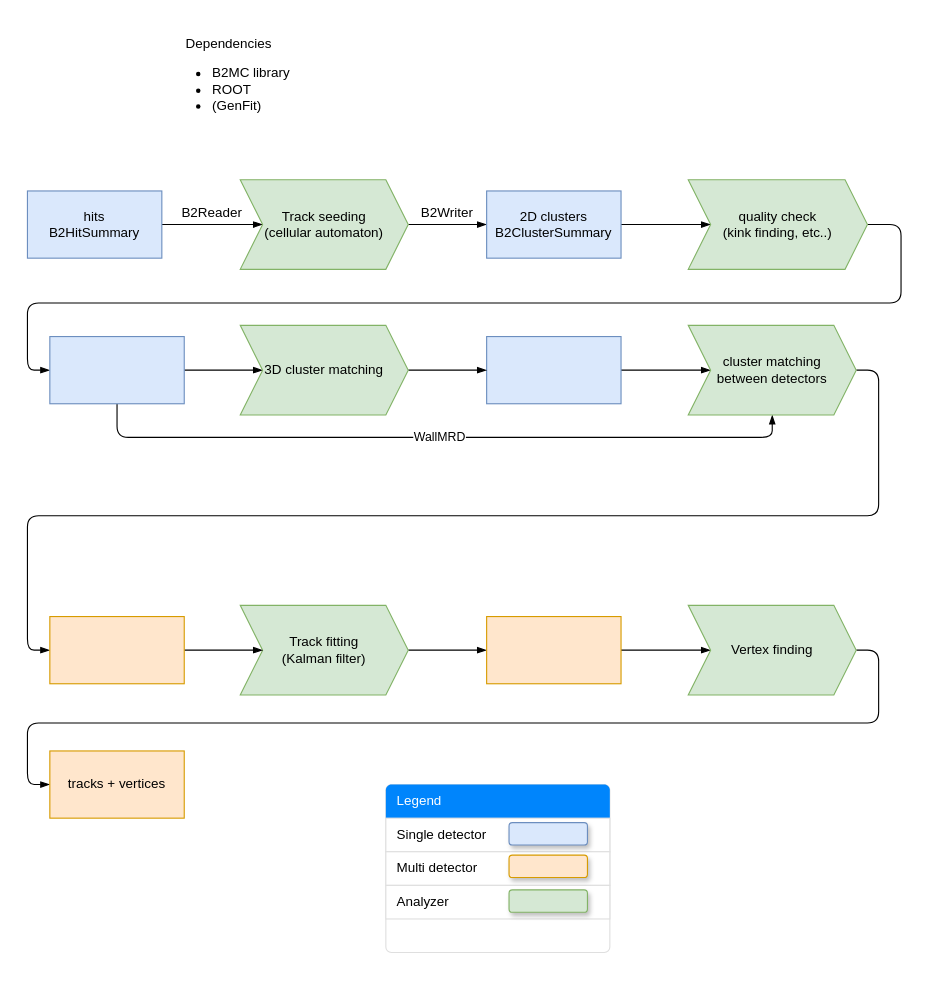
Some shapes in this 930 by 998 pixel diagram are drawn without their labels. Each missing label, with the centre of its shape:
2D clusters: the point at 116,369
3D clusters: the point at 553,369
3D clusters (multidetector): the point at 116,649
tracks: the point at 553,649
